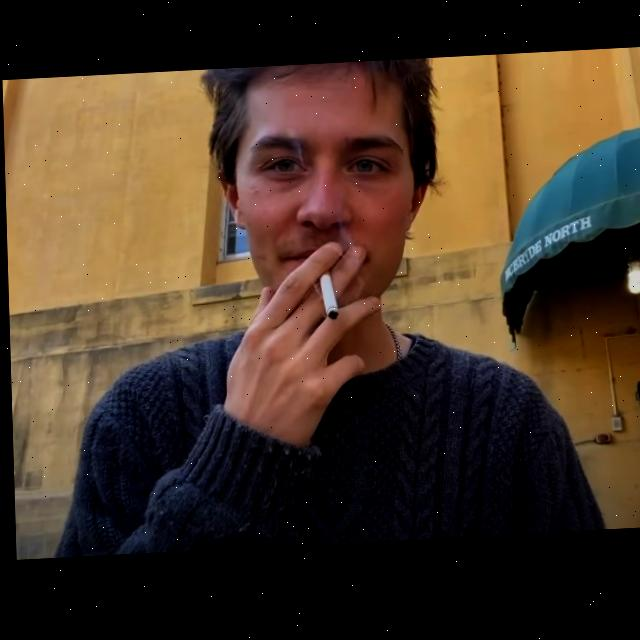cigarette: (317, 272, 338, 324)
